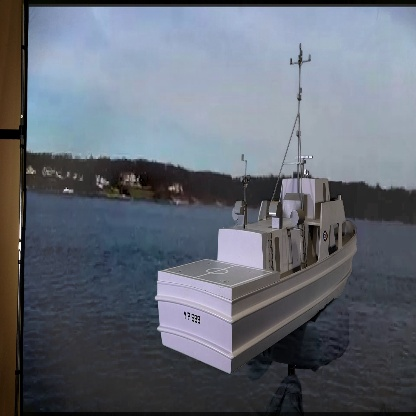YP689: (155, 41, 360, 374)
